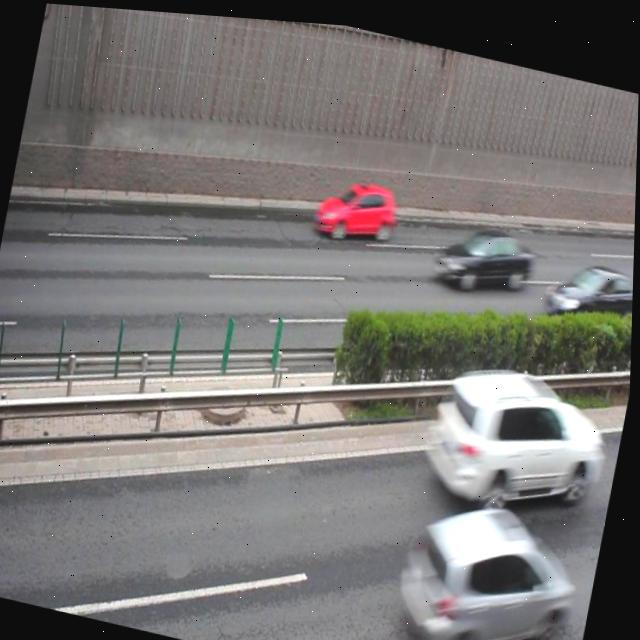car: (422, 345, 617, 519), (387, 474, 585, 640), (428, 206, 538, 297), (538, 243, 635, 334), (312, 166, 400, 245)
